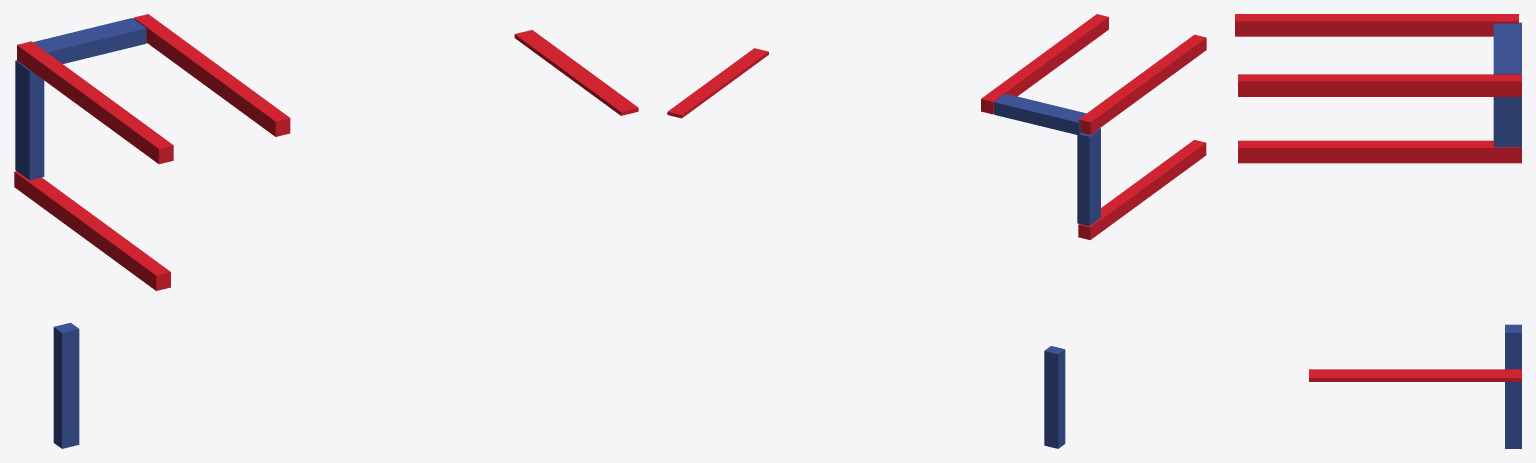
File: tinker.obj
3 renders of one model, left to right at view 1: azimuth 30°, elevation 25°; view 2: azimuth 150°, elevation 25°; view 3: azimuth 270°, elevation 25°, orthographic. The views are drawn at different scales.
Visible parts, largest first — view 1: group_0_15277357, group_0_3888547; view 2: group_0_15277357, group_0_3888547; view 3: group_0_15277357, group_0_3888547.
Boxes of the visible parts, x1=… form: group_0_15277357: x1=14, y1=14, x2=638, y2=290; group_0_3888547: x1=15, y1=18, x2=146, y2=448; group_0_15277357: x1=667, y1=14, x2=1206, y2=240; group_0_3888547: x1=994, y1=93, x2=1100, y2=448; group_0_15277357: x1=1235, y1=14, x2=1521, y2=381; group_0_3888547: x1=1493, y1=22, x2=1521, y2=448.
Bounding box in the file's own units: 421 × 317 × 202.
